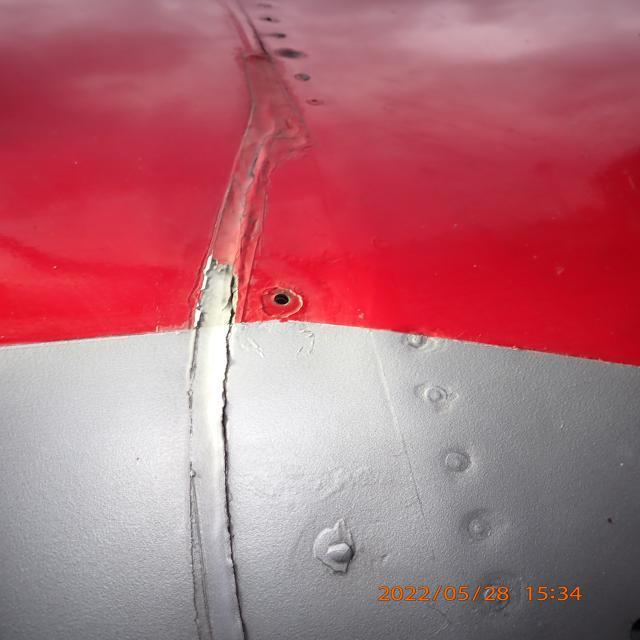Missing Fastener: (239, 270, 337, 338)
